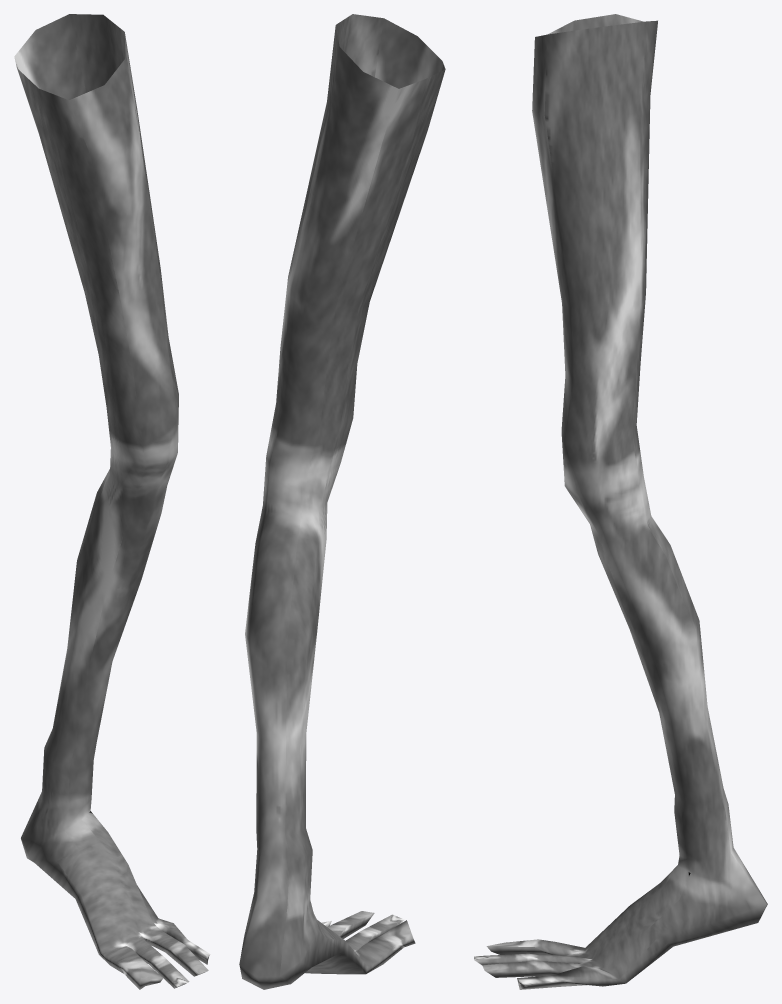
Rendered from leftleg.obj.
3 renders of one model, left to right at view 1: azimuth 30°, elevation 25°; view 2: azimuth 150°, elevation 25°; view 3: azimuth 270°, elevation 25°, orthographic. The views are drawn at different scales.
Visible parts, largest first — view 1: body; view 2: body; view 3: body.
Part boxes in pixels (x1,y1,x2,y2): body: [14, 14, 210, 989]; body: [239, 14, 445, 989]; body: [474, 14, 767, 989].
Size of the model in its own units: 31.91 by 185 by 52.65.
1 material, 1 textured.
